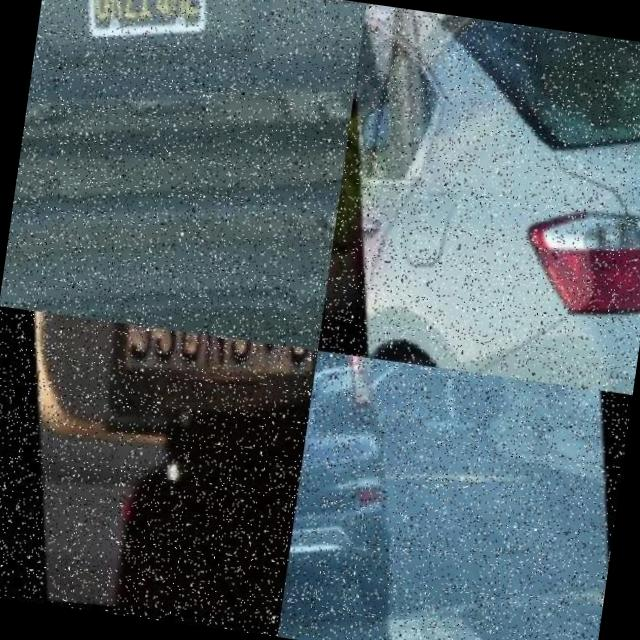LicensePlate: (107, 322, 318, 443), (72, 0, 211, 61), (303, 404, 337, 459), (428, 366, 438, 372)
